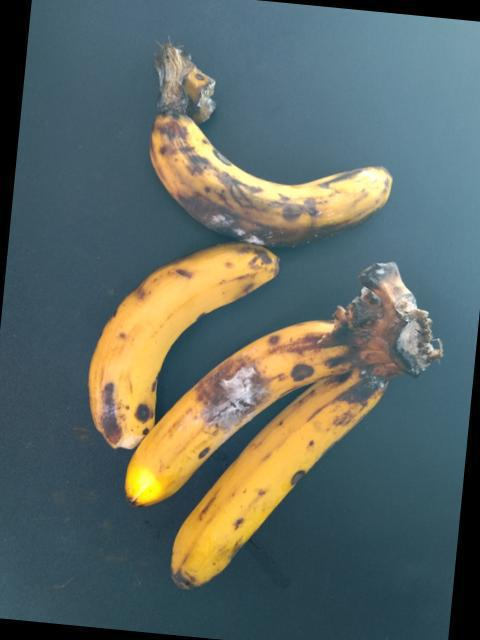overripe: (164, 364, 406, 615), (105, 310, 366, 495), (68, 251, 279, 433)
rotten: (119, 88, 409, 257)
